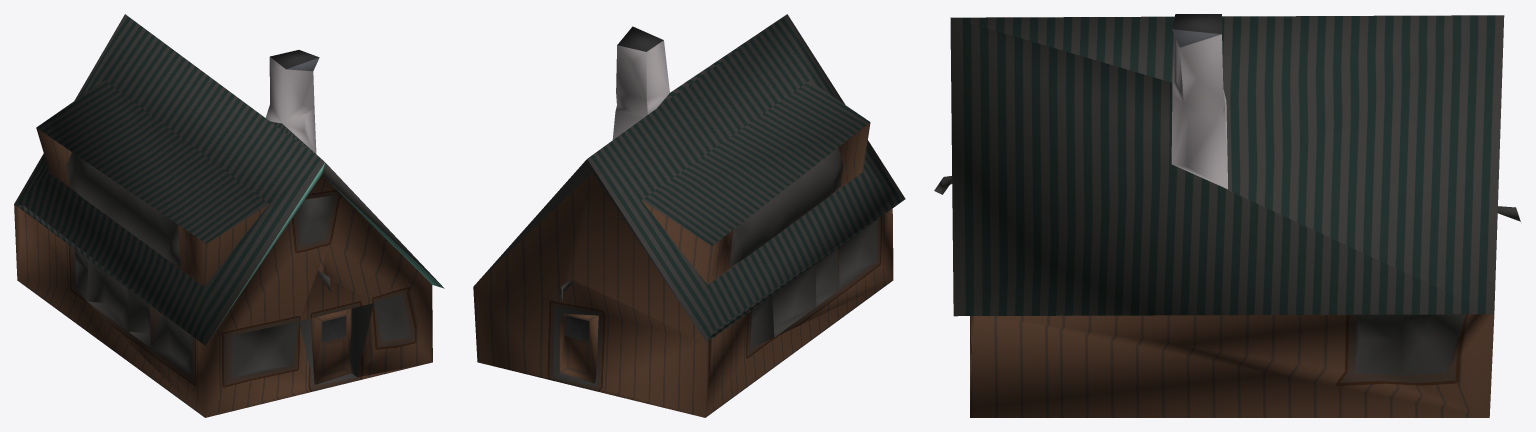
Rendered from decimatedCabin0.2.glb.
The picture shows the model from 3 angles, left to right: view 1: azimuth 30°, elevation 25°; view 2: azimuth 150°, elevation 25°; view 3: azimuth 270°, elevation 25°; orthographic projection. The views are drawn at different scales.
Parts seen in each view (by area): view 1: Cabin.008; view 2: Cabin.008; view 3: Cabin.008.
Part boxes in pixels (x1=…): Cabin.008: x1=14, y1=14, x2=444, y2=417; Cabin.008: x1=473, y1=14, x2=905, y2=417; Cabin.008: x1=934, y1=14, x2=1520, y2=417.
Size of the model in its own units: 0.116 by 0.1208 by 0.178.
1 material, 1 textured.
